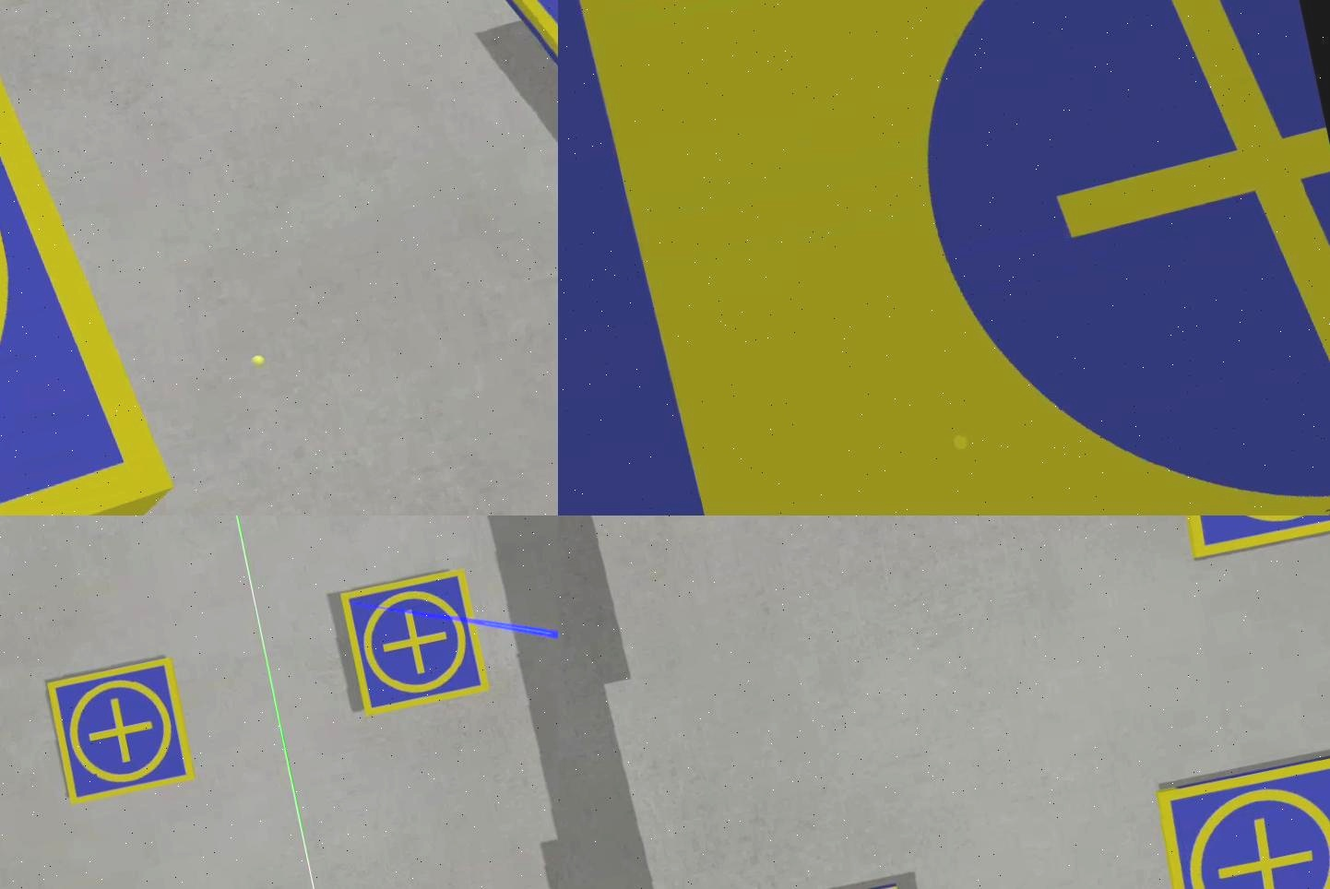large_base: (558, 1, 1330, 516)
small_base: (1, 1, 193, 516), (1149, 750, 1330, 889), (338, 564, 493, 719), (44, 658, 200, 810)
